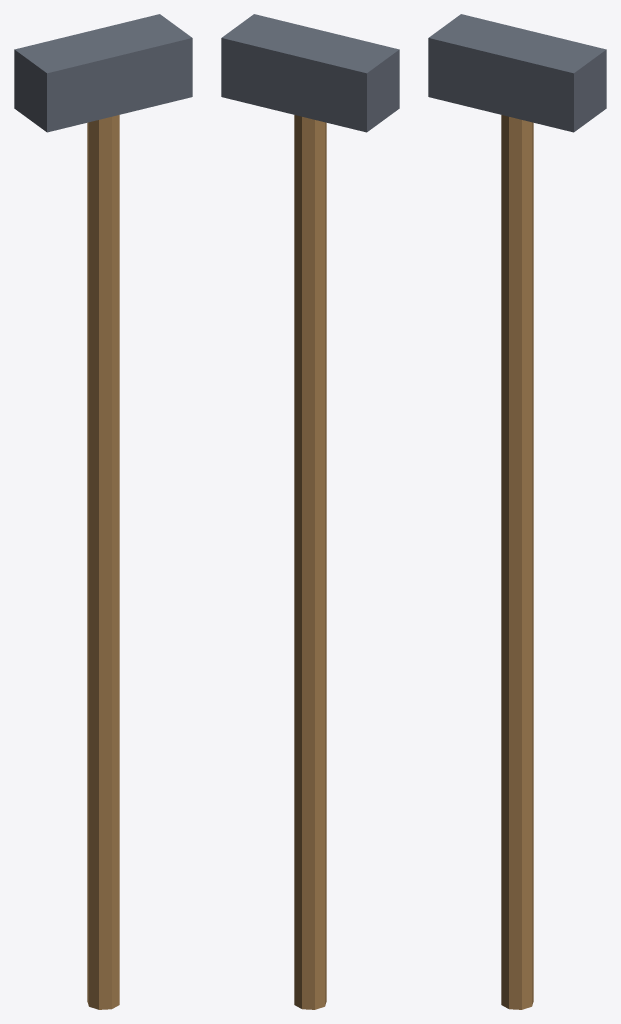
The model's file is plant.tool.sledge.glb.
3 renders of one model, left to right at view 1: azimuth 30°, elevation 25°; view 2: azimuth 150°, elevation 25°; view 3: azimuth 330°, elevation 25°, orthographic.
Visible parts, largest first — view 1: main__softwood, main__steel_painted; view 2: main__softwood, main__steel_painted; view 3: main__softwood, main__steel_painted.
Boxes of the visible parts, bbox=[...] form: main__softwood: bbox=[87, 115, 119, 1009]; main__steel_painted: bbox=[14, 14, 192, 132]; main__softwood: bbox=[294, 115, 326, 1009]; main__steel_painted: bbox=[221, 14, 399, 132]; main__softwood: bbox=[501, 115, 533, 1009]; main__steel_painted: bbox=[428, 14, 606, 132].
Size of the model in its own units: 0.18 by 1.13 by 0.07.
